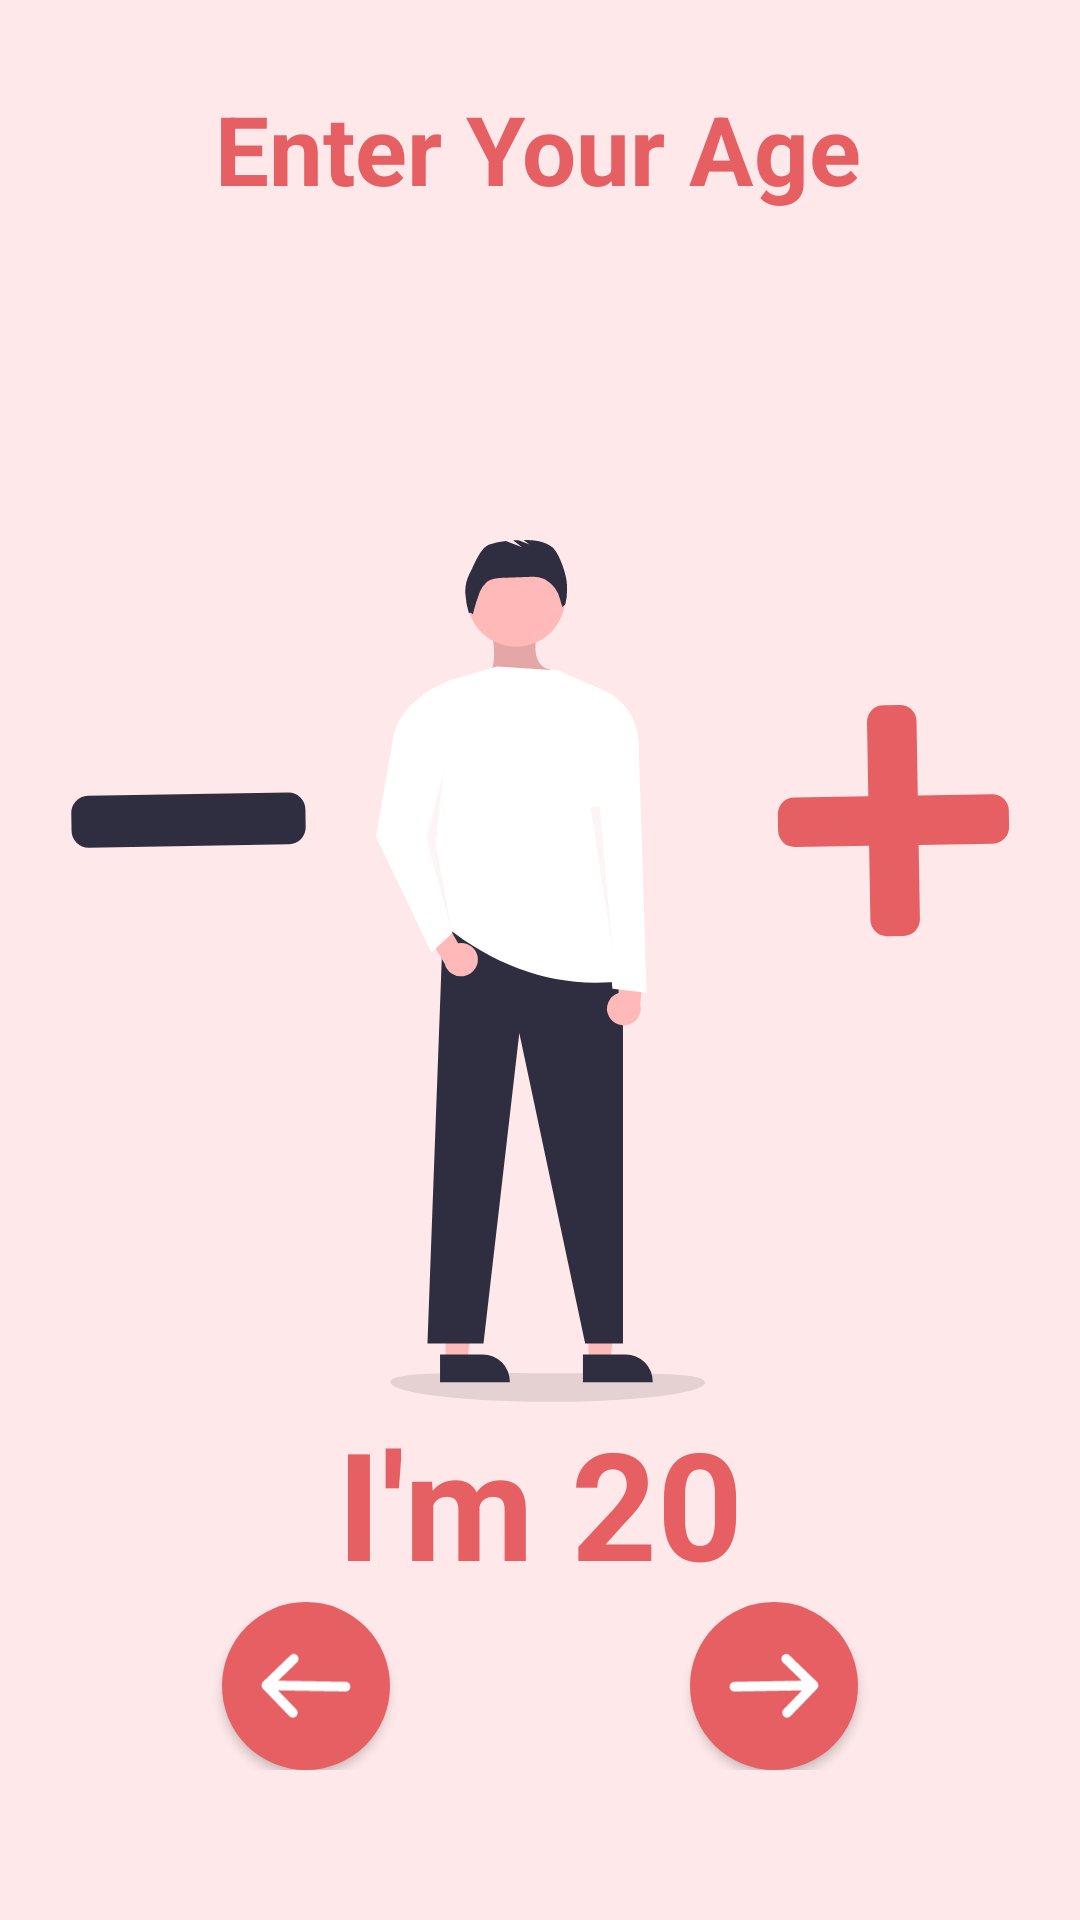

Named icons in this screenshot (1080px x 1920px) and their bounding boxes, detection(x1, y1, x2, y2):
awesome minus: detection(71, 792, 306, 848)
awesome plus: detection(778, 705, 1009, 937)
left arrow: detection(222, 1602, 390, 1770)
right arrow: detection(690, 1602, 858, 1770)
